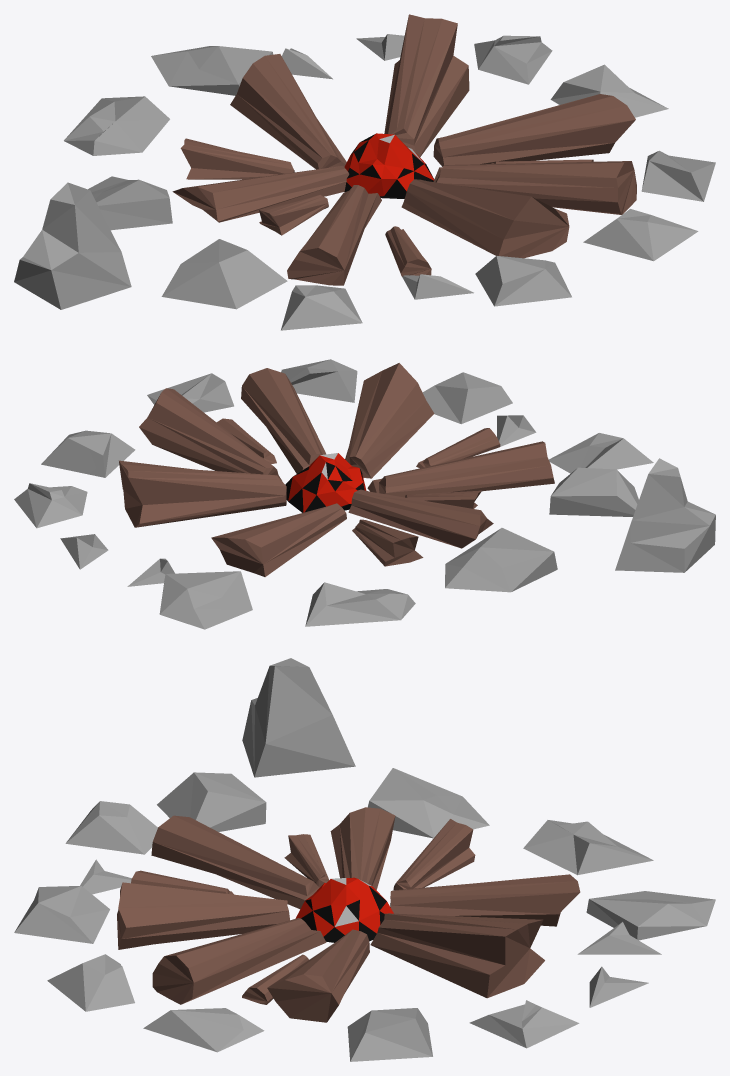
File: fireplace.obj
3 renders of one model, top to bottom at view 1: azimuth 30°, elevation 25°; view 2: azimuth 150°, elevation 25°; view 3: azimuth 270°, elevation 25°, orthographic. The views are drawn at different scales.
Parts seen in each view (by area): view 1: mesh426686337, mesh1092029743, mesh1003889422, mesh1160812418, mesh1959393478, mesh66477150, mesh1646851771, mesh1763538459, mesh1086865960, mesh828617495, Icosphere, mesh1845842313 (+13 smaller); view 2: mesh1160812418, mesh426686337, mesh1003889422, mesh1086865960, mesh1092029743, mesh1980005773, mesh66477150, mesh1763538459, mesh1959393478, mesh1845842313, mesh1646851771, mesh828617495 (+14 smaller); view 3: mesh1160812418, mesh426686337, mesh1003889422, mesh1959393478, mesh66477150, mesh1086865960, mesh1092029743, mesh1980005773, mesh1646851771, mesh1845842313, Icosphere, mesh828617495 (+14 smaller).
Boxes of the visible parts, x1,y1,x2,y2 form: mesh426686337: (14,182,131,309); mesh1092029743: (433,94,635,166); mesh1003889422: (401,179,569,258); mesh1160812418: (384,14,469,157); mesh1959393478: (433,161,636,214); mesh66477150: (230,54,346,169); mesh1646851771: (161,239,287,309); mesh1763538459: (172,166,349,222); mesh1086865960: (287,185,381,285); mesh828617495: (64,96,169,155); Icosphere: (344,133,434,198); mesh1845842313: (151,46,273,95); mesh1160812418: (119,460,286,527); mesh426686337: (615,458,715,572); mesh1003889422: (345,363,434,478); mesh1086865960: (367,441,554,497); mesh1092029743: (139,388,281,480); mesh1980005773: (445,528,557,592); mesh66477150: (211,503,346,576); mesh1763538459: (348,489,493,548); mesh1959393478: (241,368,325,473); mesh1845842313: (159,571,252,629); mesh1646851771: (549,467,638,516); mesh828617495: (305,582,415,626); mesh1160812418: (370,913,544,998); mesh426686337: (242,658,355,777); mesh1003889422: (117,882,289,949); mesh1959393478: (152,918,326,1004); mesh66477150: (390,874,580,926); mesh1086865960: (151,815,319,908); mesh1092029743: (267,929,369,1022); mesh1980005773: (367,768,489,838); mesh1646851771: (157,772,266,831); mesh1845842313: (586,891,715,940); Icosphere: (295,877,393,942); mesh828617495: (523,820,653,875).
Size of the model in its own units: 1.31 by 0.1807 by 1.18.
